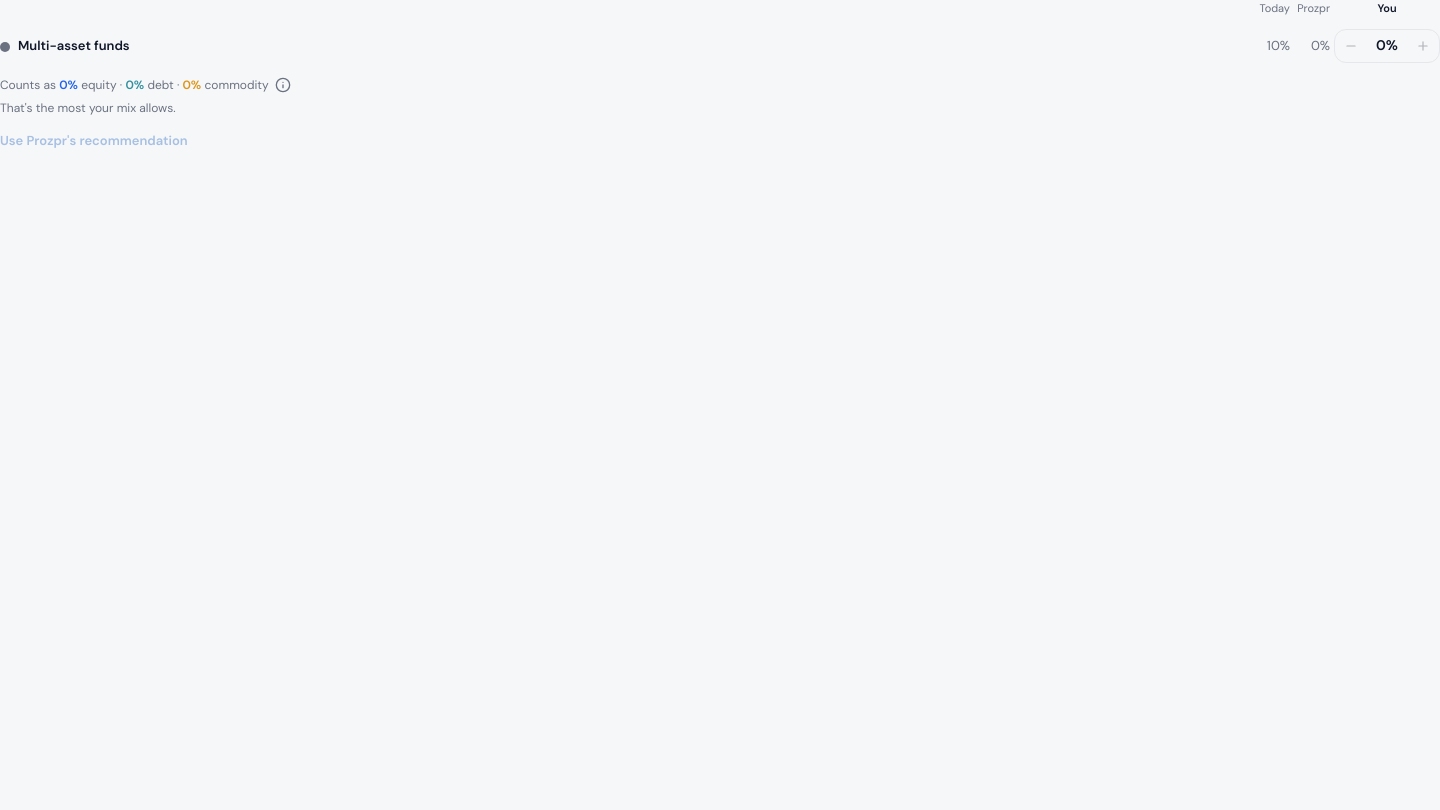
Test case: MultiAssetPanel › allows no fund in a mix with no debt, and says why
Check: the button named "Increase Multi-asset funds" is disabled, box top-left (1407, 30), bottom-right (1439, 62)
Check: the text "That's the most your mix allows." is shown, box top-left (0, 100), bottom-right (176, 116)
Click the button named "About multi-asset funds" at (283, 84), box top-left (273, 74), bottom-right (293, 94)
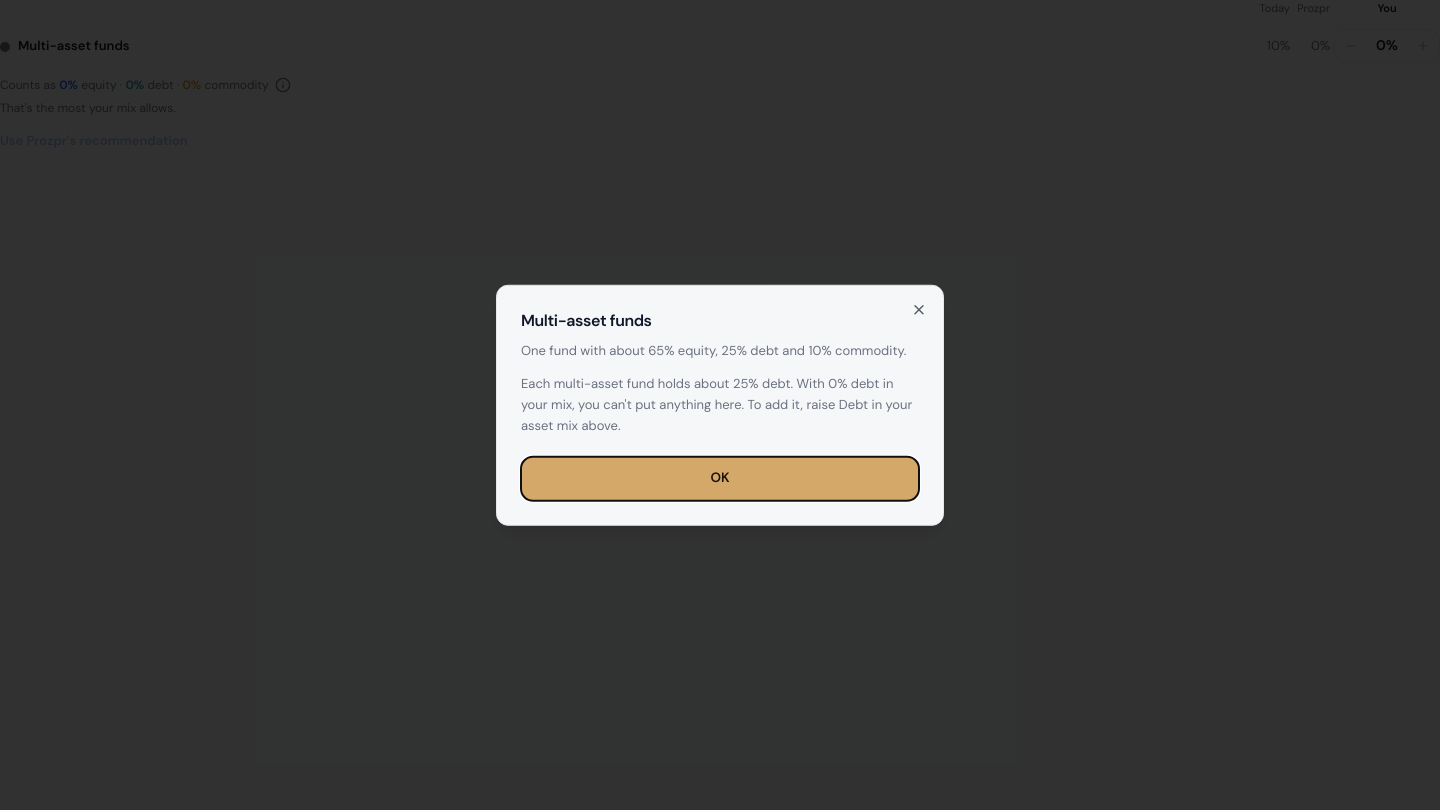
Check: the dialog "Multi-asset funds" shows "Each multi-asset fund holds about 25% debt. With 0% debt in your mix, you can't put anything here. To add it, raise Debt in your asset mix above.", box top-left (521, 375), bottom-right (912, 434)
